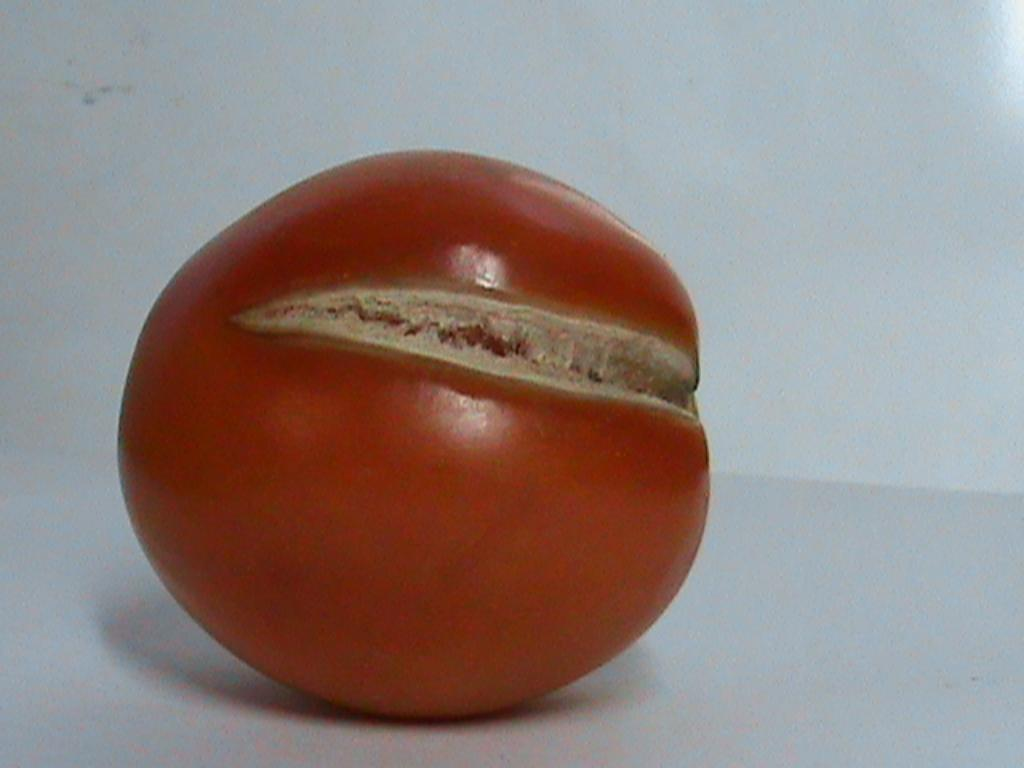surface_damage: (234, 288, 694, 413)
tomato: (120, 154, 707, 715)
